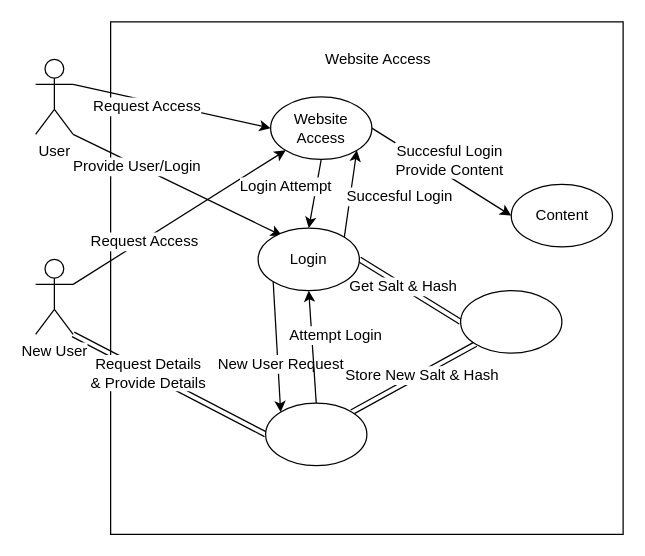
Image size: 645x556. Some labels were removed from this diagram. Each missing label, with the centre of its shape:
"Create New User" belongs at [315,434].
"SQL Database" belongs at [510,321].
